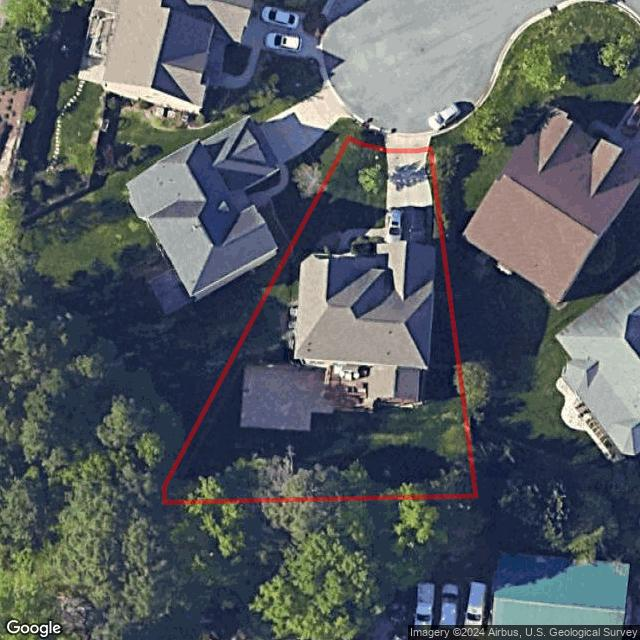Driveway: (381, 146, 441, 244)
Extra-Driveway: (385, 136, 431, 148)
Extra-Lawn: (345, 123, 386, 151)
House: (295, 242, 437, 403)
Lawn: (163, 138, 476, 502)
Other: (240, 365, 334, 431), (324, 368, 370, 412), (312, 232, 339, 254), (350, 239, 382, 254)
Sidewalk: (335, 228, 383, 254), (281, 300, 298, 349)
